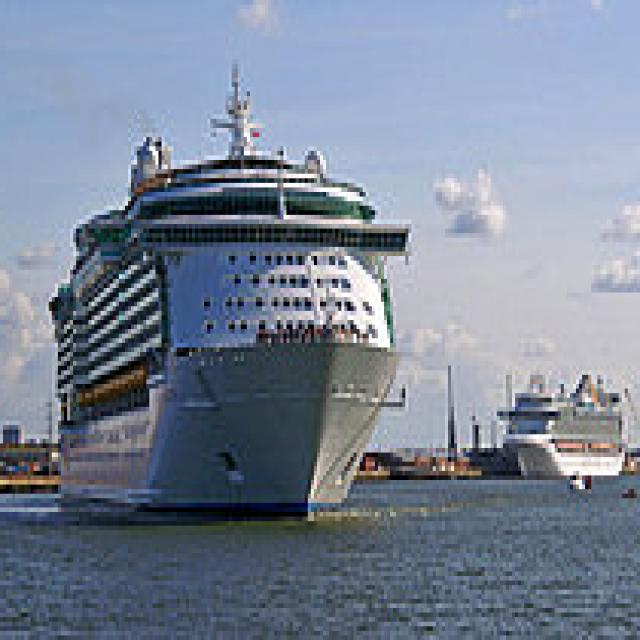Cruise: (49, 50, 418, 517), (497, 370, 631, 480)
